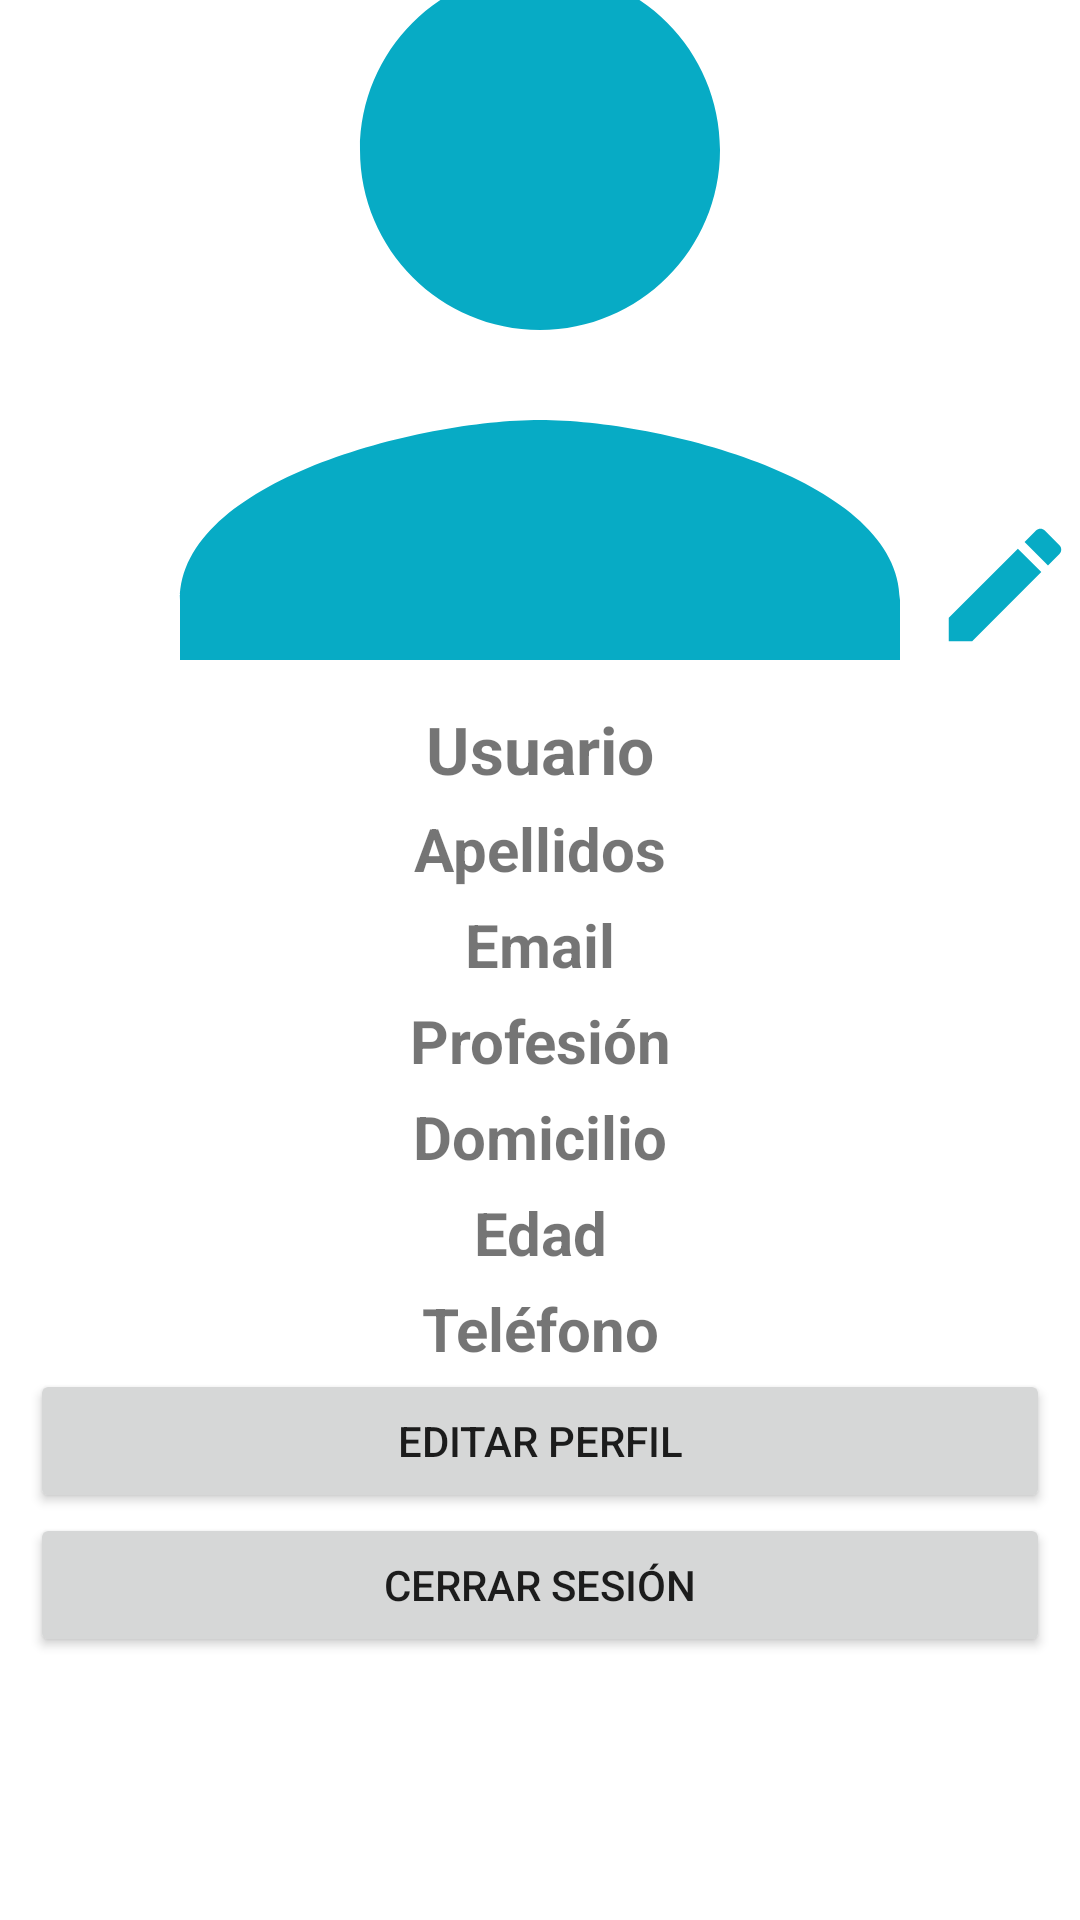

Where icons sit on this 1080×1920 app screen, as (x1, y1, x2, y2):
edit: (948, 528, 1062, 642)
